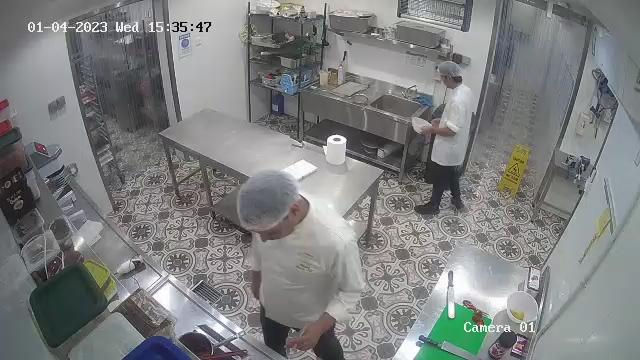no_apron: (255, 214, 348, 345)
